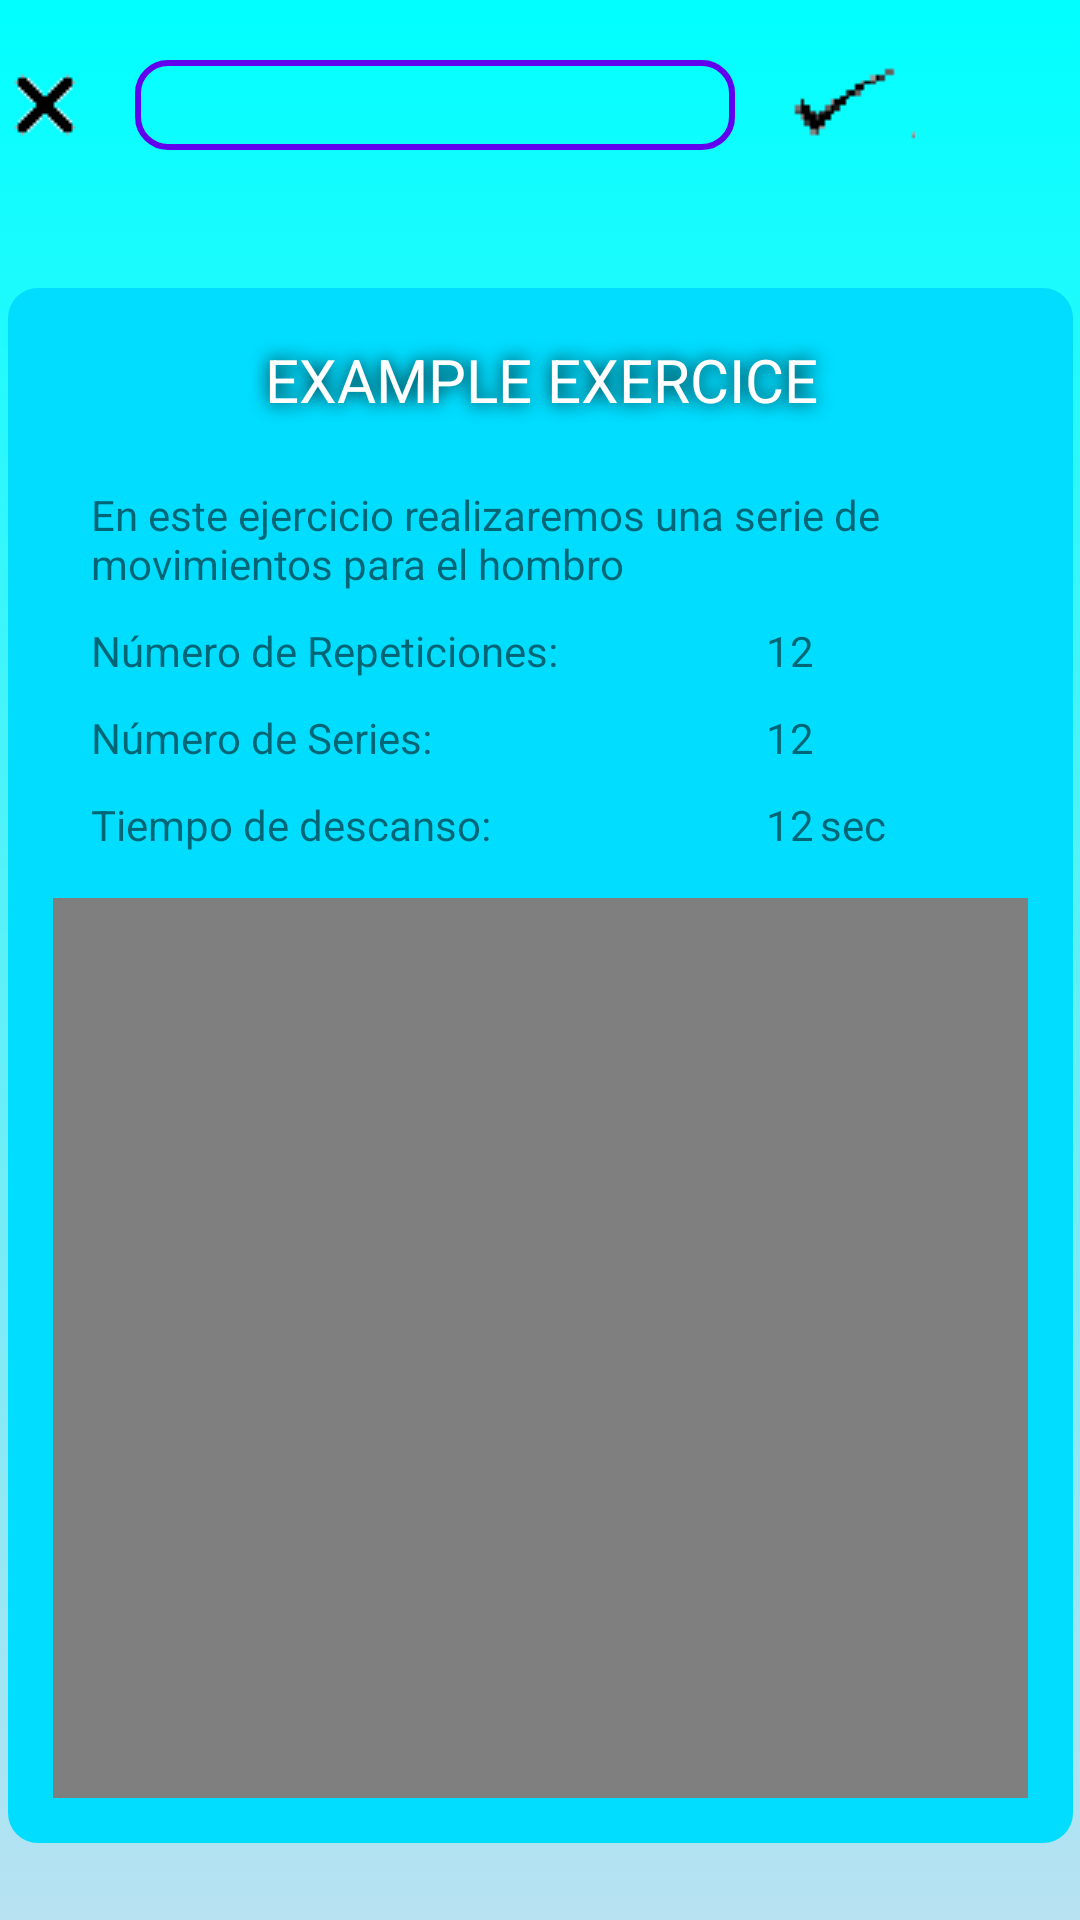

Named icons in this screenshot (1080w x 1920h) and their centers, [x,y]:
done: [854,103]
